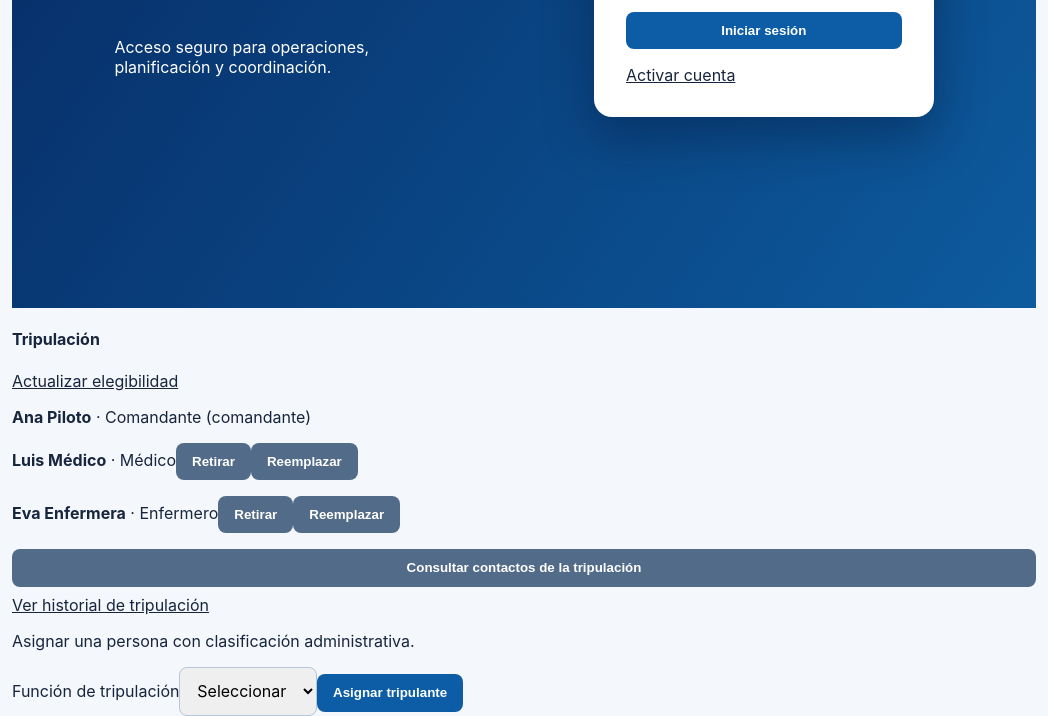
cerrar el panel descarta los contactos del estado y volver a abrir pide datos nuevos
This screenshot has width=1048, height=716.
(page scrolled)
Check: the text "Luis Médico" is shown, box [12, 450, 106, 470]
Click the button "Consultar contactos de la tripulación" at (524, 568), box [12, 549, 1036, 587]
(page scrolled)
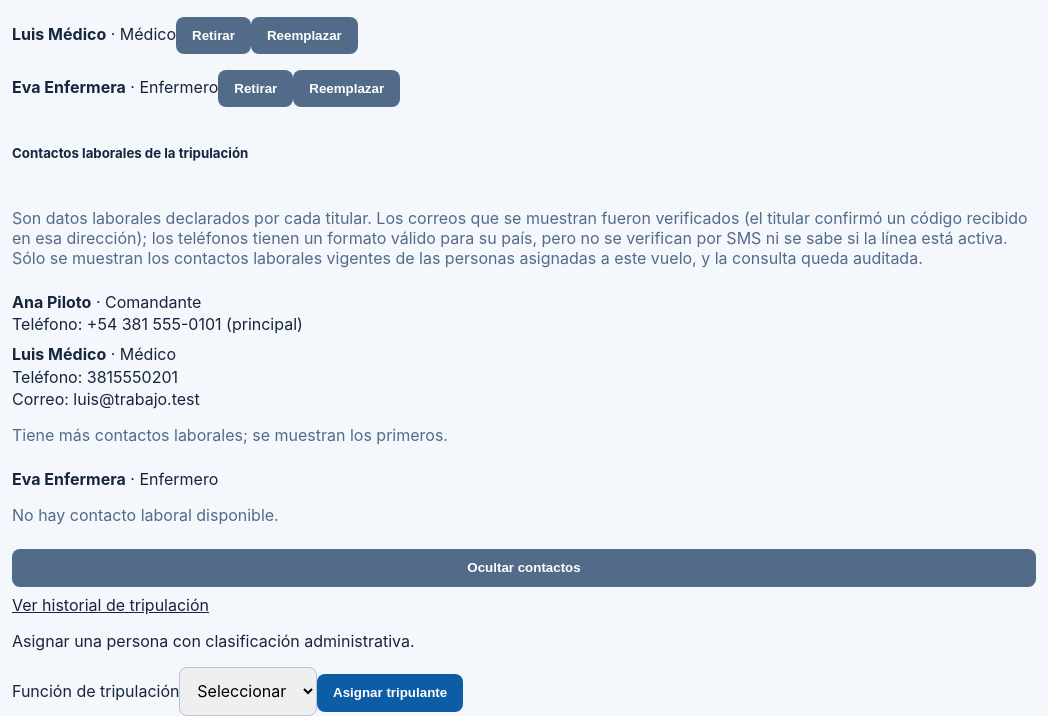
Check: the text "3815550201" is shown, box [87, 367, 178, 387]
Click the button "Ocultar contactos" at (524, 568), box [12, 549, 1036, 587]
(page scrolled)
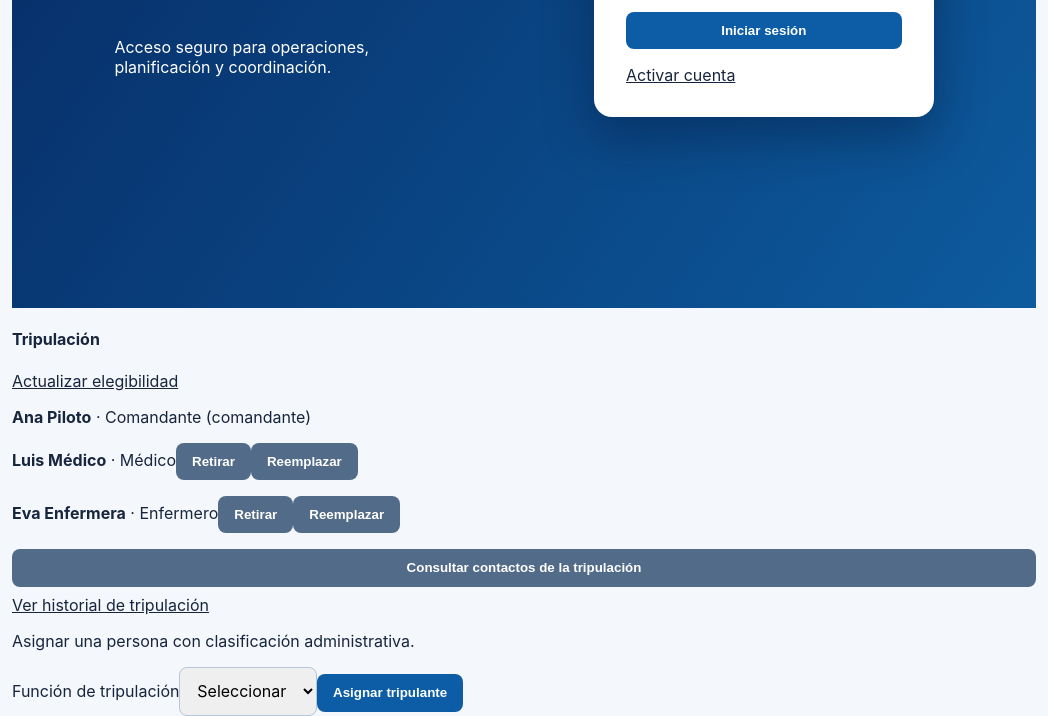
Check: the text "3815550201" is gone
Check: the text "luis@trabajo.test" is gone
Click the button "Consultar contactos de la tripulación" at (524, 568), box [12, 549, 1036, 587]
(page scrolled)
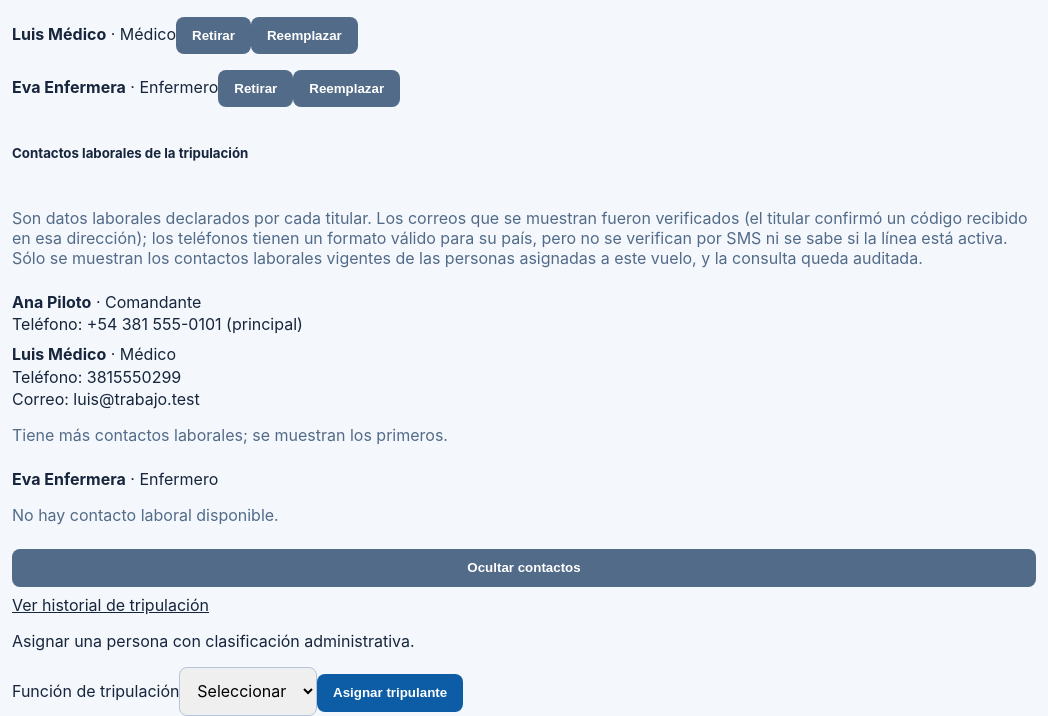
Check: the text "3815550299" is shown, box [87, 367, 181, 387]
